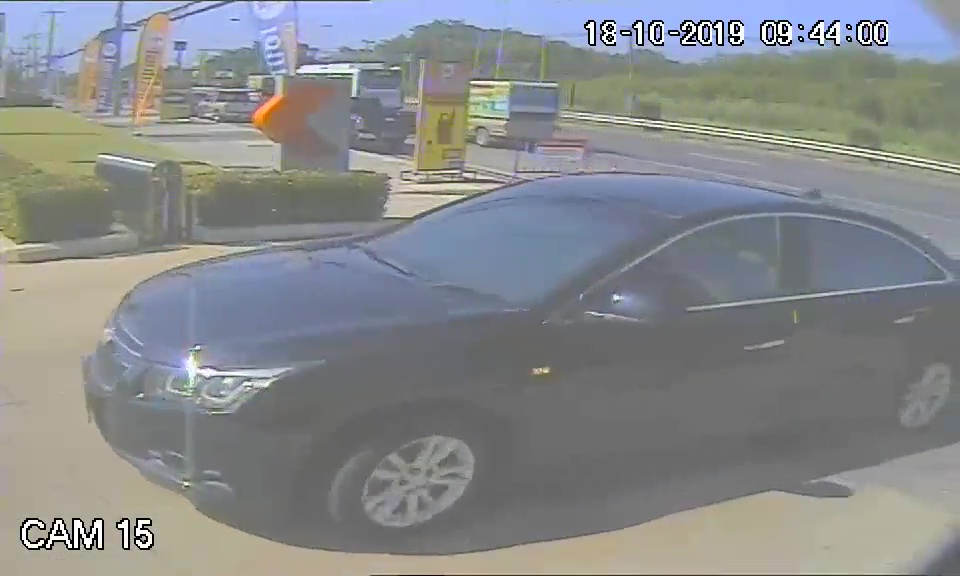sedan: (83, 168, 959, 542)
